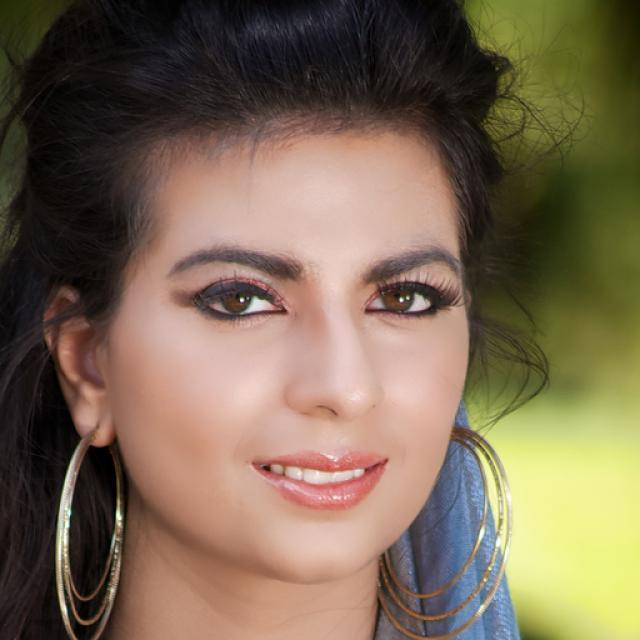happy: (109, 117, 472, 582)
